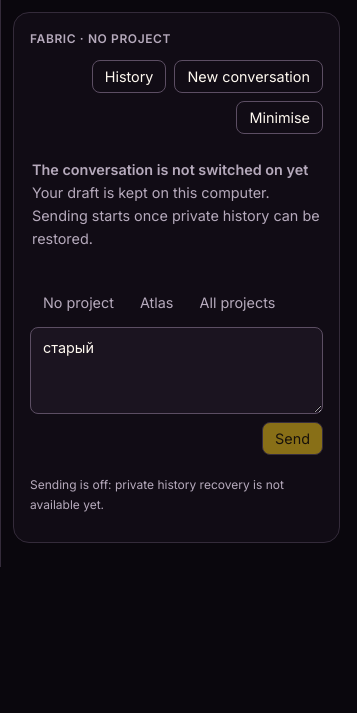
Test: the conversation with Fabric, every SCN-042 state › draft conflict: the newer text is kept and shown; mine can be copied
This screenshot has width=357, height=713.
Expected: the text "The conversation is not switched on yet" is shown, x1=32 y1=161 x2=308 y2=178
Replace the text in the text box named "Message to Fabric" with "мой вариант" at (176, 371), box x1=30 y1=327 x2=323 y2=414
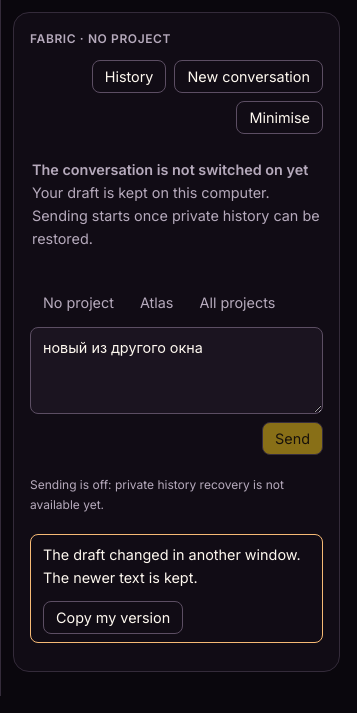
Result: the text "The draft changed in another window. The newer text is kept." is shown at x1=43 y1=543 x2=310 y2=589
Result: the text box named "Message to Fabric" holds "новый из другого окна" at x1=30 y1=327 x2=323 y2=414
Result: the button "Copy my version" is shown at x1=43 y1=601 x2=183 y2=634
